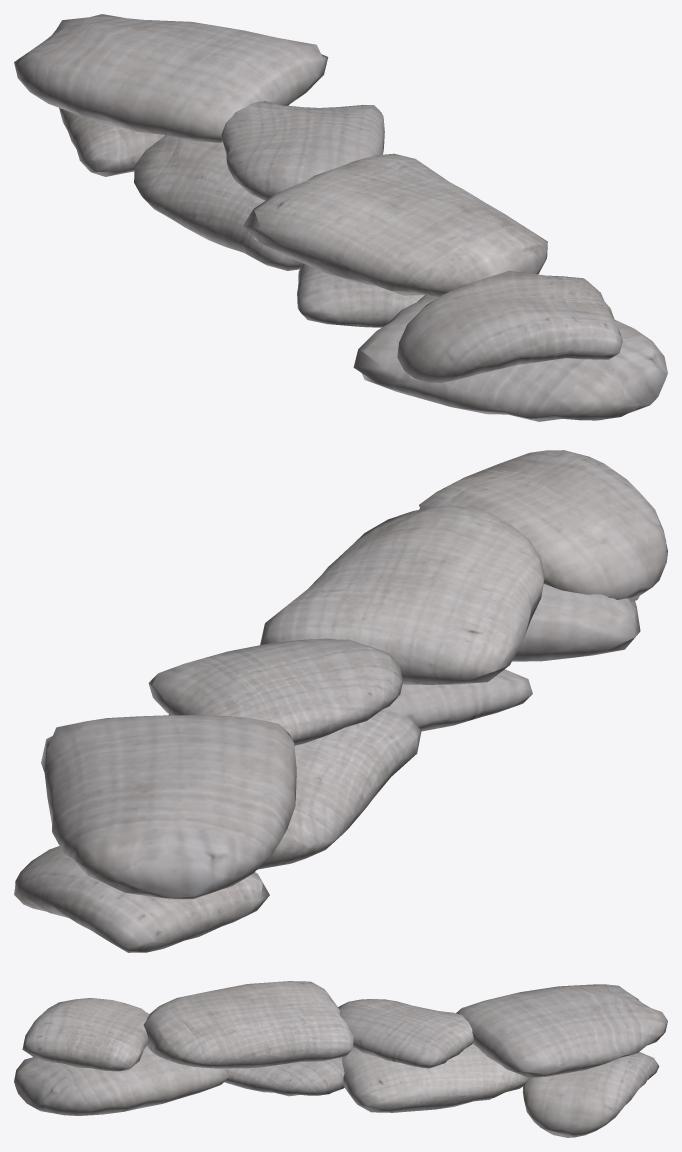
The model's file is SandbagDiv.fbx.
3 views of the same model, one above another, from view 1: azimuth 30°, elevation 25°; view 2: azimuth 150°, elevation 25°; view 3: azimuth 270°, elevation 25° (orthographic). The views are drawn at different scales.
Visible parts, largest first — view 1: Cube.001; view 2: Cube.001; view 3: Cube.001.
Part boxes in pixels (bbox=[...]): Cube.001: bbox=[14, 14, 667, 421]; Cube.001: bbox=[14, 450, 667, 952]; Cube.001: bbox=[14, 981, 667, 1137].
Size of the model in its own units: 4227 by 2488 by 14110.
